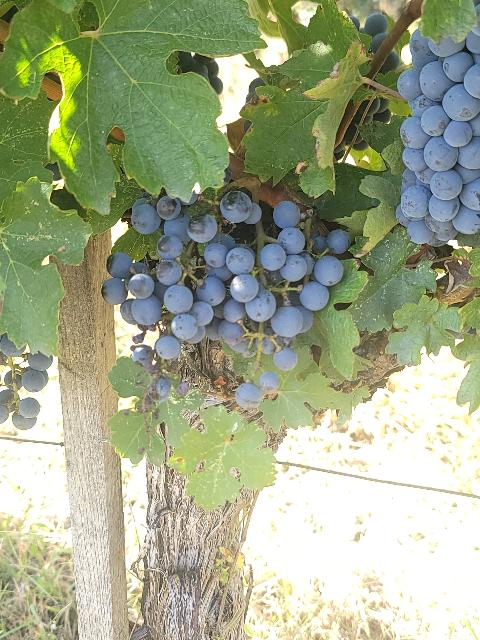grapes: (102, 190, 340, 371), (395, 24, 480, 248)
